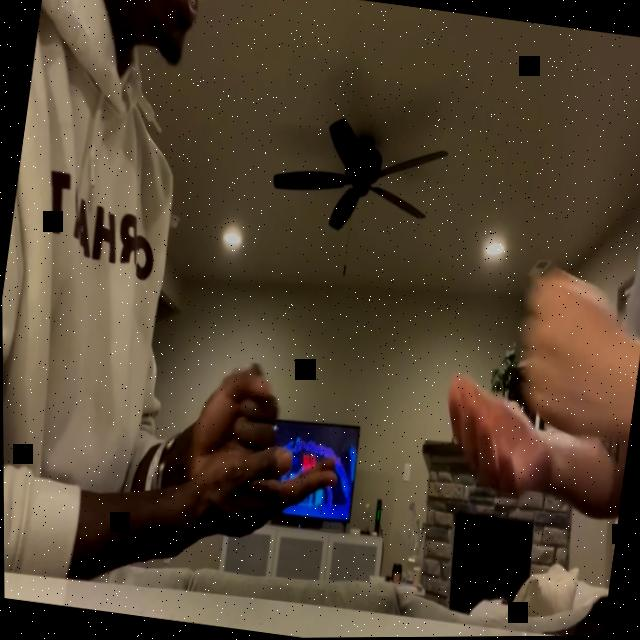Rock: (189, 362, 280, 498)
